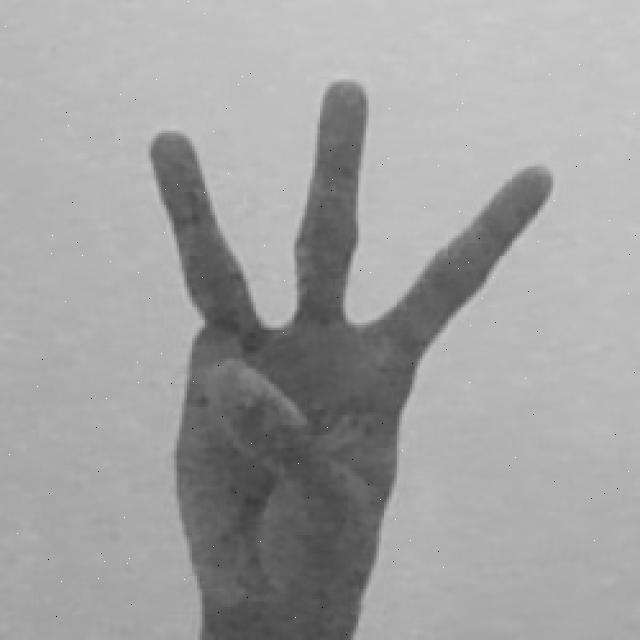W: (148, 73, 559, 632)
